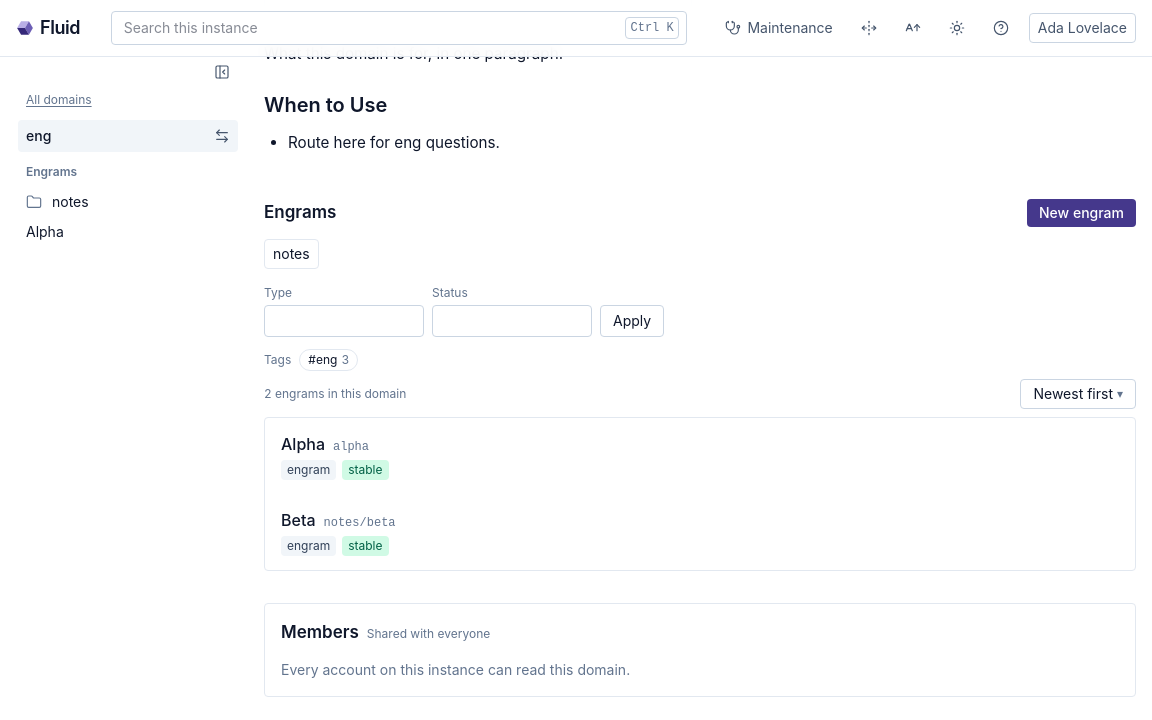
Test: the domain screen › switches to the whole domain when a tag is filtered on
The image size is (1152, 720).
(page scrolled)
Expected: the link "Alpha alpha engram stable" is shown, [281, 434, 388, 480]
Click the button "#eng 3": click(329, 360) [299, 349, 358, 371]
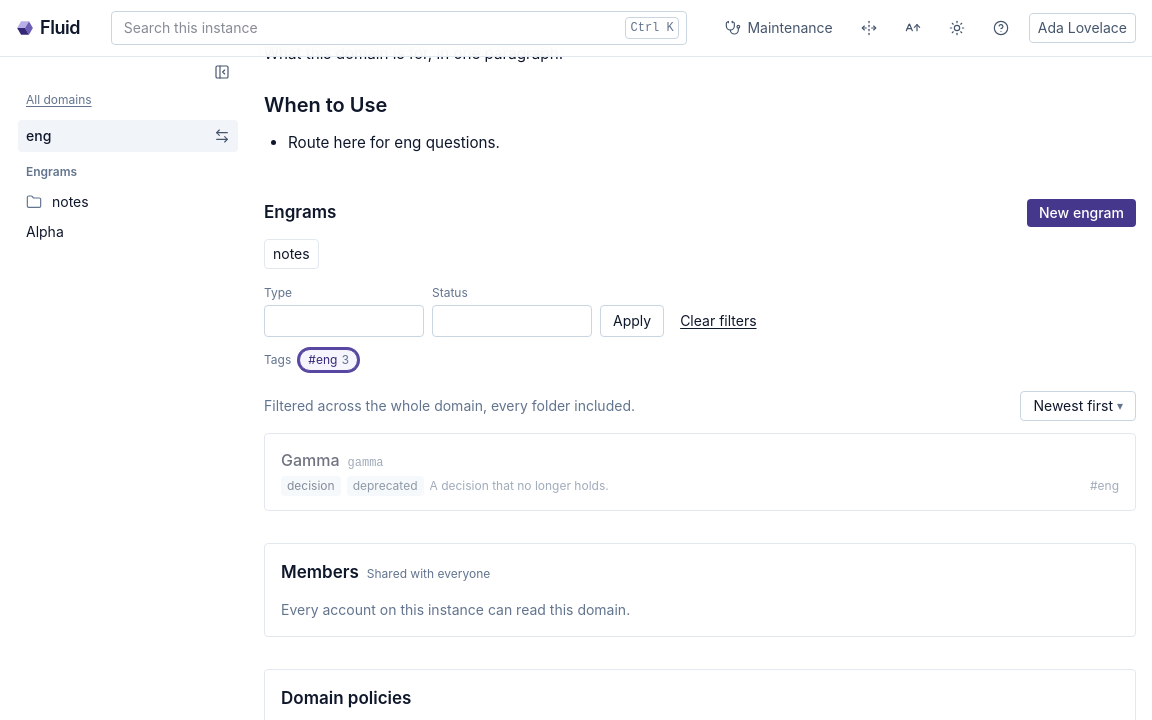
Now the link "Gamma" shows "deprecated", box [269, 434, 1131, 510]
Now the text "Filtered across the whole domain, every folder included." is shown, box [264, 396, 635, 416]
